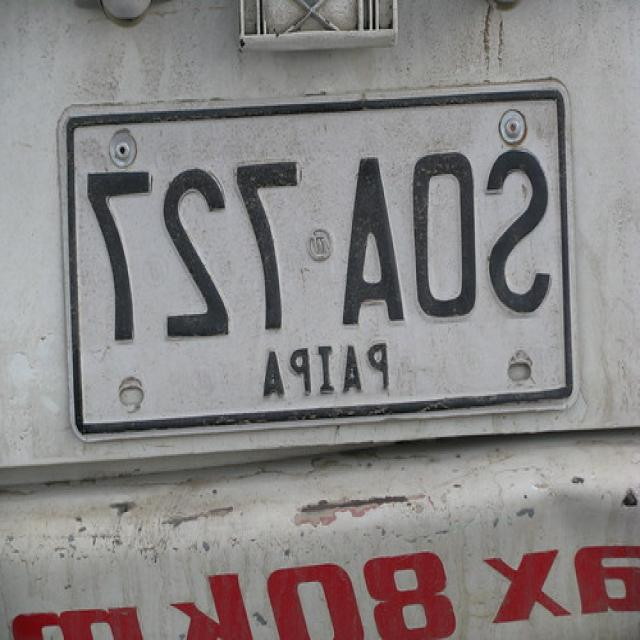placas: (67, 89, 570, 424)
